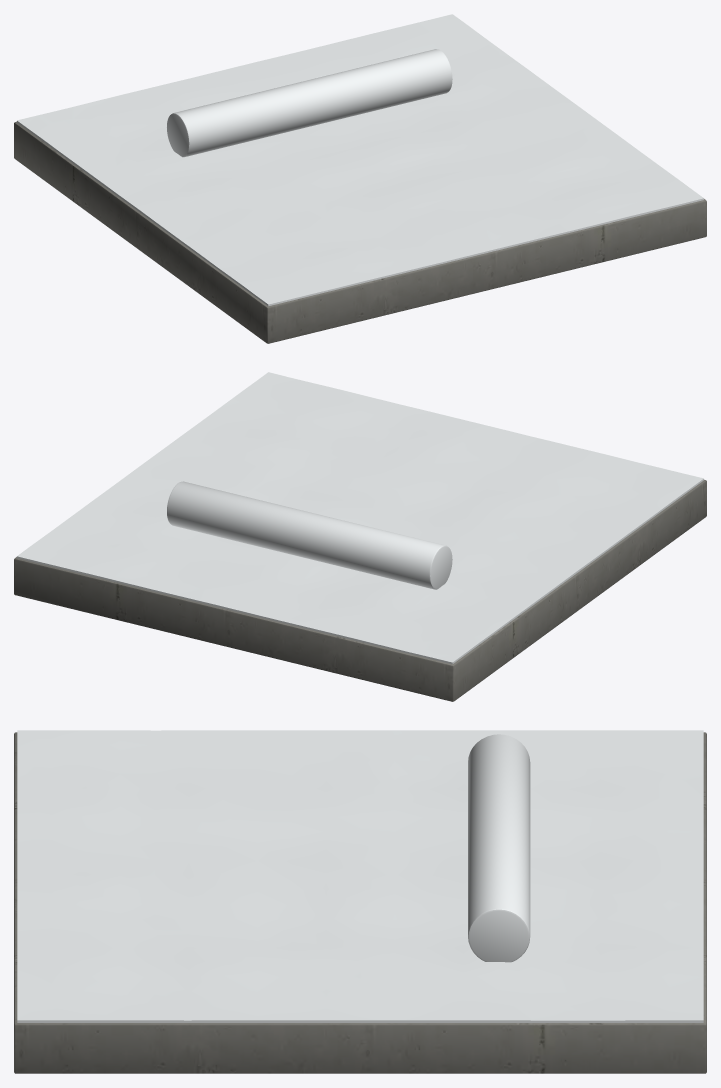
File: IMP-PRT-002.glb
3 renders of one model, top to bottom at view 1: azimuth 30°, elevation 25°; view 2: azimuth 150°, elevation 25°; view 3: azimuth 270°, elevation 25°, orthographic. The views are drawn at different scales.
Visible parts, largest first — view 1: IMP-PRT-002_filme, IMP-PRT-002_laje, IMP-PRT-002_rolo; view 2: IMP-PRT-002_filme, IMP-PRT-002_laje, IMP-PRT-002_rolo; view 3: IMP-PRT-002_filme, IMP-PRT-002_laje, IMP-PRT-002_rolo.
Part boxes in pixels (x1=…): IMP-PRT-002_filme: x1=17, y1=14, x2=703, y2=306; IMP-PRT-002_laje: x1=14, y1=121, x2=706, y2=343; IMP-PRT-002_rolo: x1=167, y1=49, x2=452, y2=157; IMP-PRT-002_filme: x1=17, y1=372, x2=703, y2=664; IMP-PRT-002_laje: x1=14, y1=479, x2=706, y2=701; IMP-PRT-002_rolo: x1=167, y1=481, x2=452, y2=589; IMP-PRT-002_filme: x1=17, y1=730, x2=703, y2=1022; IMP-PRT-002_laje: x1=14, y1=732, x2=706, y2=1073; IMP-PRT-002_rolo: x1=468, y1=734, x2=530, y2=962.
Size of the model in its own units: 1 by 0.17 by 1.
Materials: 2 (1 with a texture image).
